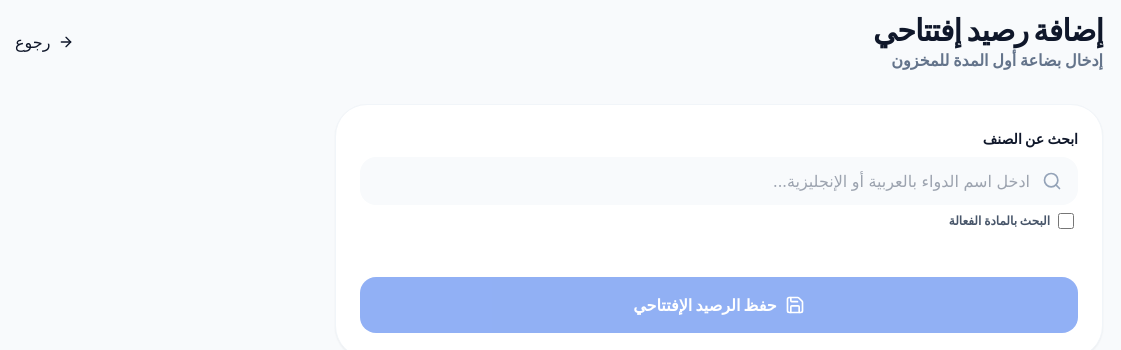
Test: coverage gap: opening-balance creation route › switches active-ingredient search on and clears stale suggestions when a later search fails
The width and height of the screenshot is (1121, 350).
Type "Pana" into the field with placeholder "ادخل اسم الدواء بالعربية أو الإنجليزية..." at (719, 181), box [360,157,1078,205]
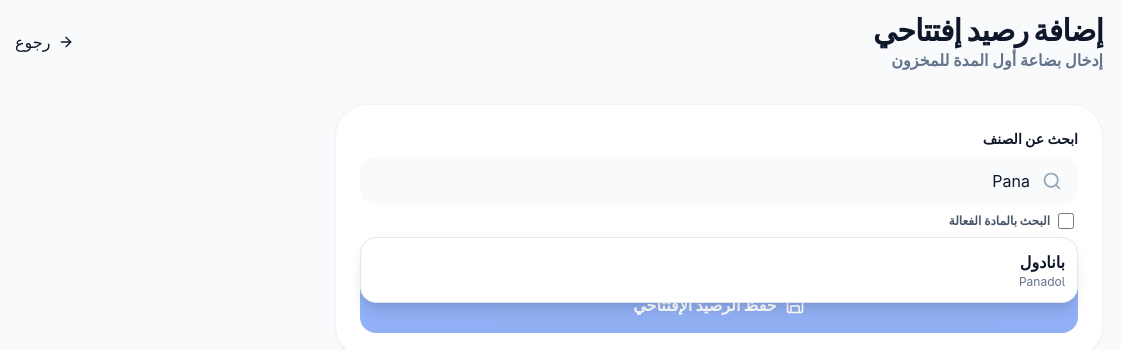
Expected: the text "Panadol" is shown, [1019,274,1065,289]
Click the checkbox labelled "البحث بالمادة الفعالة" at (1066, 221), box [1058,213,1074,229]
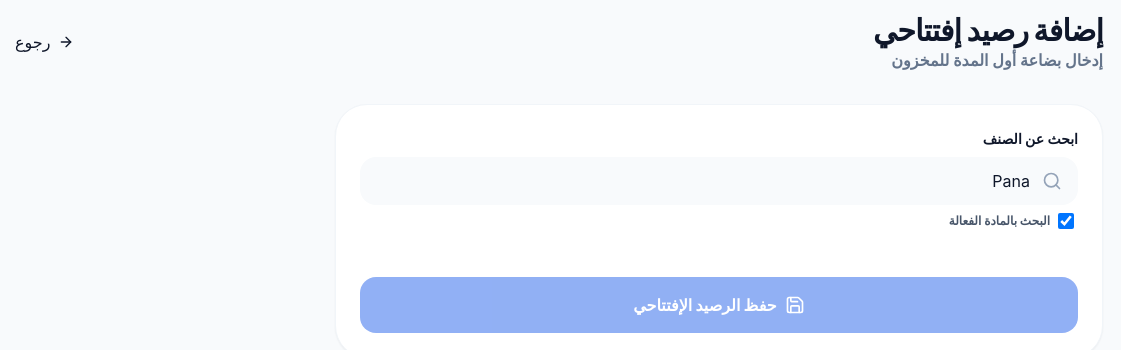
Expected: the button "Panadol" is gone
